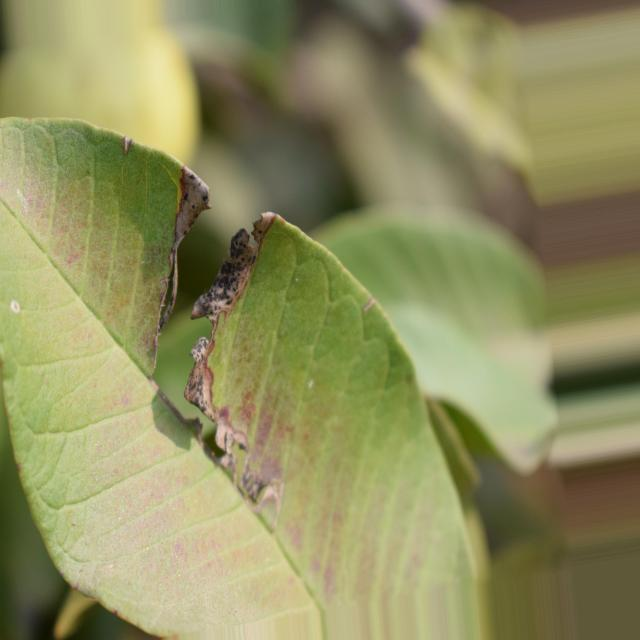Dot: (0, 118, 479, 638)
